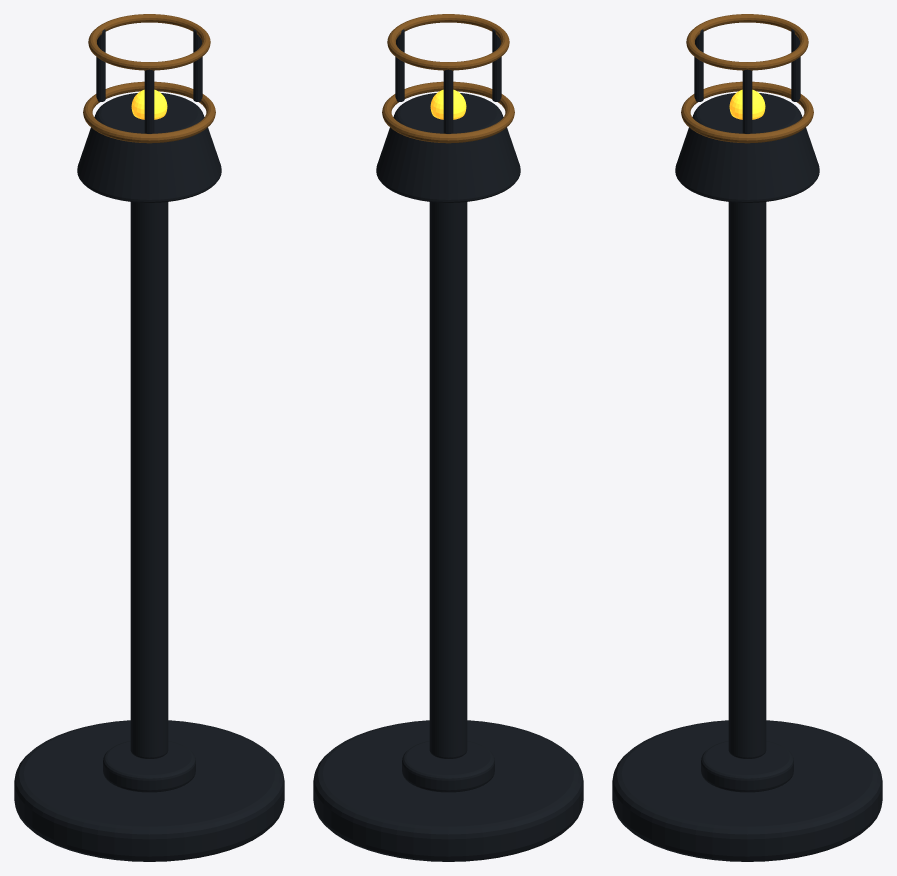
The model's file is StandingTorch.glb.
3 views of the same model, side by side, from view 1: azimuth 30°, elevation 25°; view 2: azimuth 150°, elevation 25°; view 3: azimuth 270°, elevation 25° (orthographic).
Visible parts, largest first — view 1: Base, Stem, TorchBowl, BaseCollar, BowlRim, CageTopRing, CageBar03, GlowOrb.001, CageBar01, CageBar02; view 2: Base, Stem, TorchBowl, BaseCollar, BowlRim, CageTopRing, CageBar02, GlowOrb.001, CageBar01, CageBar03; view 3: Base, Stem, TorchBowl, BaseCollar, BowlRim, CageTopRing, CageBar01, GlowOrb.001, CageBar02, CageBar03.
Boxes of the visible parts, <box> form: Base: <box>14,720,284,861</box>; Stem: <box>130,202,168,758</box>; TorchBowl: <box>77,93,221,202</box>; BaseCollar: <box>103,741,195,792</box>; BowlRim: <box>83,81,215,143</box>; CageTopRing: <box>88,14,210,70</box>; CageBar03: <box>144,69,154,133</box>; GlowOrb.001: <box>131,89,167,119</box>; CageBar01: <box>193,29,202,101</box>; CageBar02: <box>96,29,105,101</box>; Base: <box>313,720,583,861</box>; Stem: <box>429,202,467,758</box>; TorchBowl: <box>376,93,520,202</box>; BaseCollar: <box>402,741,494,792</box>; BowlRim: <box>382,81,514,143</box>; CageTopRing: <box>387,14,509,70</box>; CageBar02: <box>443,69,453,133</box>; GlowOrb.001: <box>430,89,466,119</box>; CageBar01: <box>395,29,404,101</box>; CageBar03: <box>492,29,501,101</box>; Base: <box>612,720,882,861</box>; Stem: <box>728,202,766,758</box>; TorchBowl: <box>675,93,819,202</box>; BaseCollar: <box>701,741,793,792</box>; BowlRim: <box>681,81,813,143</box>; CageTopRing: <box>686,14,808,70</box>; CageBar01: <box>742,69,752,133</box>; GlowOrb.001: <box>729,89,765,119</box>; CageBar02: <box>791,29,800,101</box>; CageBar03: <box>694,29,703,101</box>.
Bounding box in the file's own units: 0.57 × 1.79 × 0.57.
